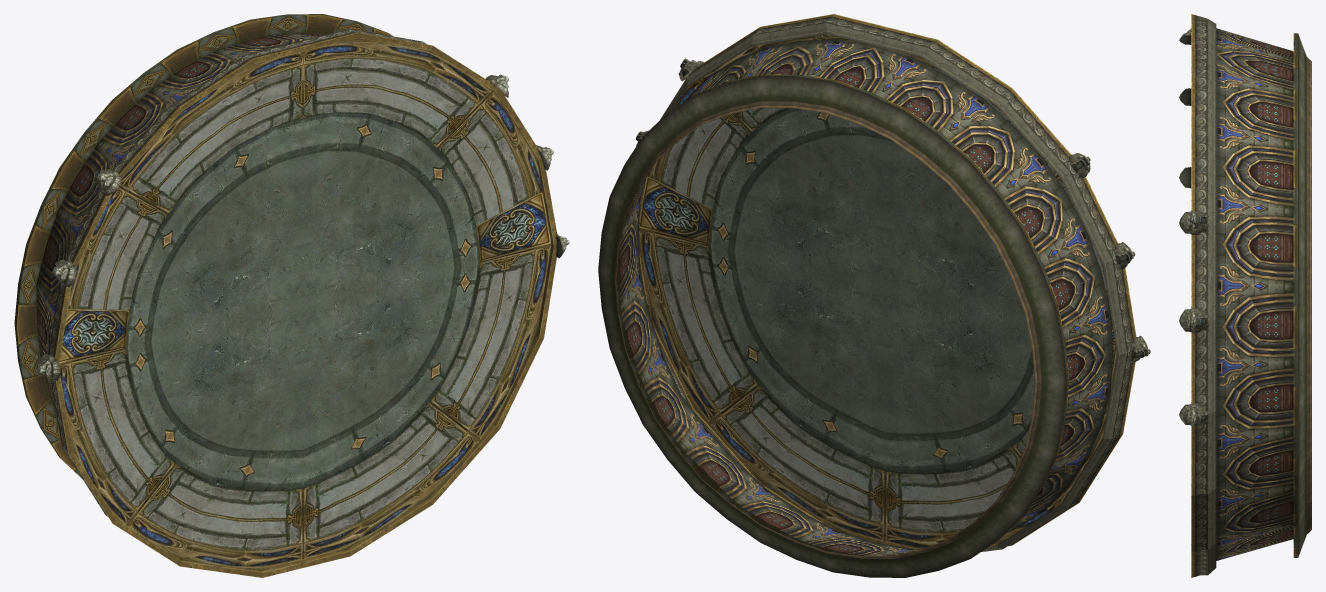
File: juqing_fuben_283_pingtai_01b.obj
The picture shows the model from 3 angles, left to right: view 1: azimuth 30°, elevation 25°; view 2: azimuth 150°, elevation 25°; view 3: azimuth 270°, elevation 25°; orthographic projection. The views are drawn at different scales.
Parts seen in each view (by area): view 1: juqing_fuben_283_pingtai_01b; view 2: juqing_fuben_283_pingtai_01b; view 3: juqing_fuben_283_pingtai_01b.
Boxes of the visible parts, <box> form: juqing_fuben_283_pingtai_01b: <box>14,14,569,577</box>; juqing_fuben_283_pingtai_01b: <box>598,14,1150,577</box>; juqing_fuben_283_pingtai_01b: <box>1179,14,1311,577</box>.
Size of the model in its own units: 2568 by 2419 by 577.
6 materials, 6 textured.
